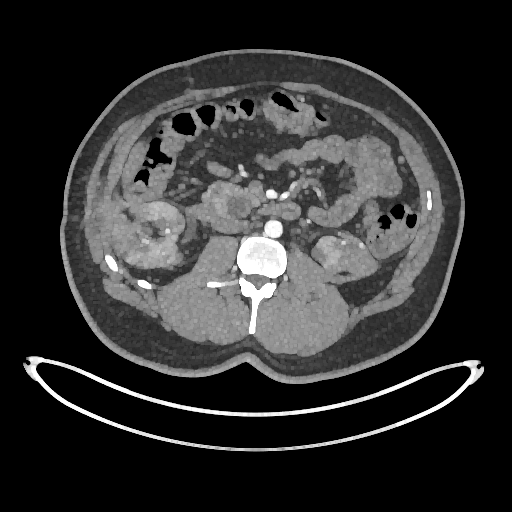Lesion: (339, 244, 380, 273)
